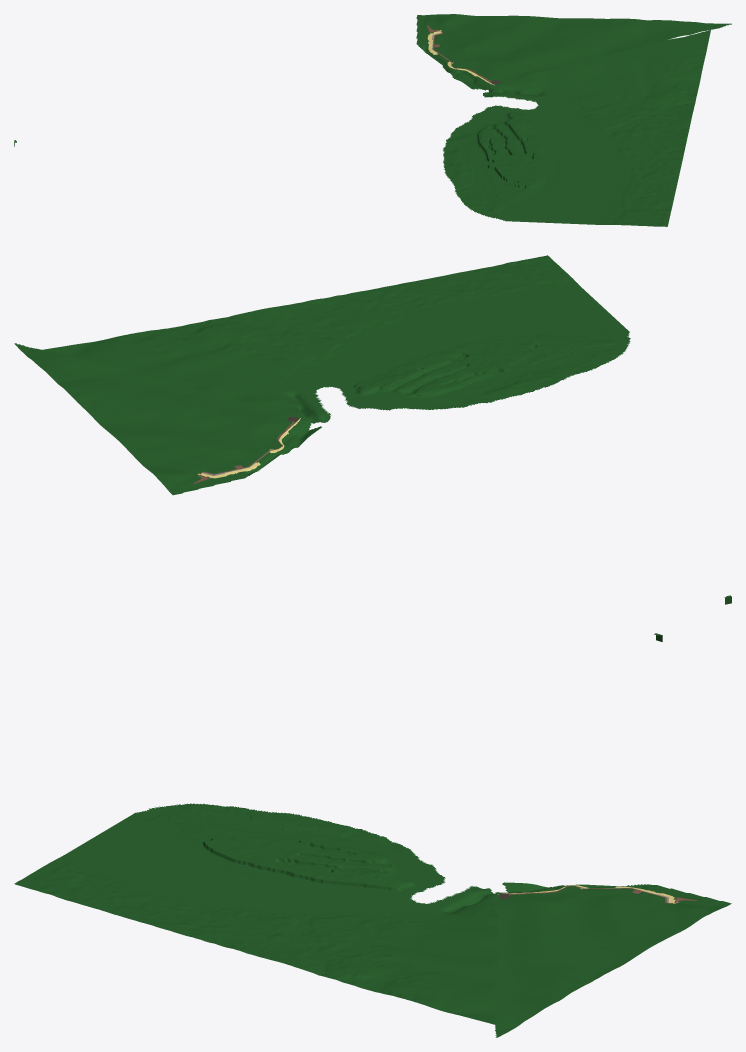
Rendered from KhabarovstNaberejnaya.fbx.
3 renders of one model, top to bottom at view 1: azimuth 30°, elevation 25°; view 2: azimuth 150°, elevation 25°; view 3: azimuth 270°, elevation 25°, orthographic. The views are drawn at different scales.
Parts seen in each view (by area): view 1: Terrain; view 2: Terrain; view 3: Terrain.
Part boxes in pixels (x1,y1,x2,y2): Terrain: (14, 14, 731, 226); Terrain: (14, 255, 731, 604); Terrain: (14, 633, 731, 1037).
Bounding box in the file's own units: 1100258 × 16735 × 814364.
9 materials, 7 textured.
